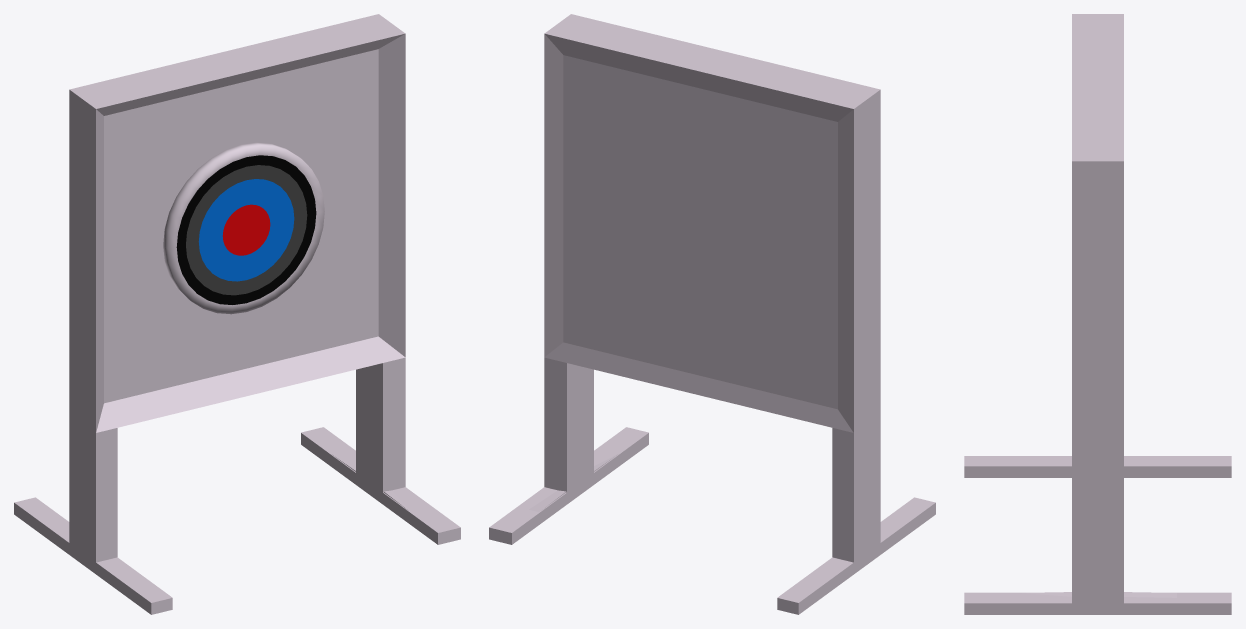
File: archery_shooting_circle.fbx
3 views of the same model, side by side, from view 1: azimuth 30°, elevation 25°; view 2: azimuth 150°, elevation 25°; view 3: azimuth 270°, elevation 25° (orthographic). The views are drawn at different scales.
Parts seen in each view (by area): view 1: Cylinder; view 2: Cylinder; view 3: Cylinder.
Part boxes in pixels (box(x1,y1,x2,y2)): Cylinder: box(14, 14, 460, 614); Cylinder: box(489, 14, 935, 614); Cylinder: box(964, 14, 1231, 614).
Bounding box in the file's own units: 193 × 277 × 148.
